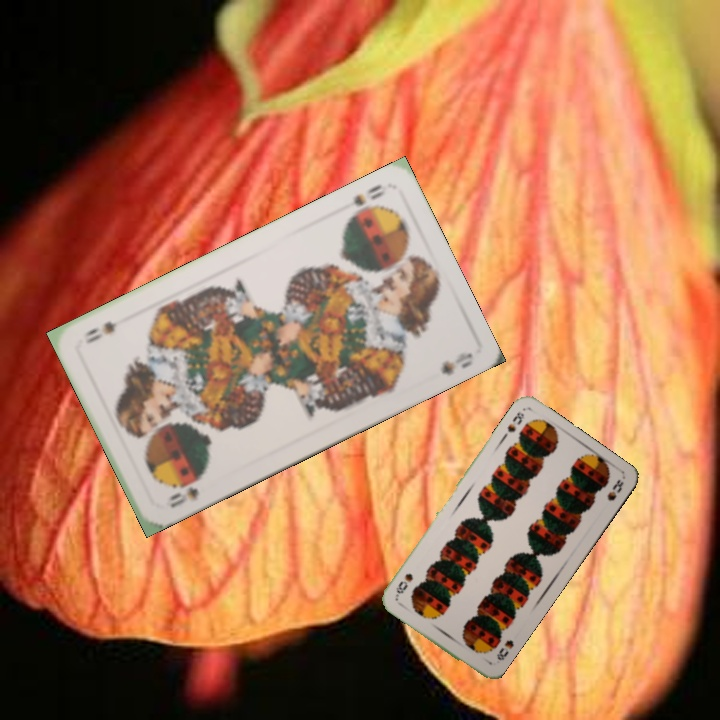S8: (492, 635, 516, 663), (503, 407, 527, 435)
SO: (349, 180, 391, 209), (165, 483, 201, 511)
